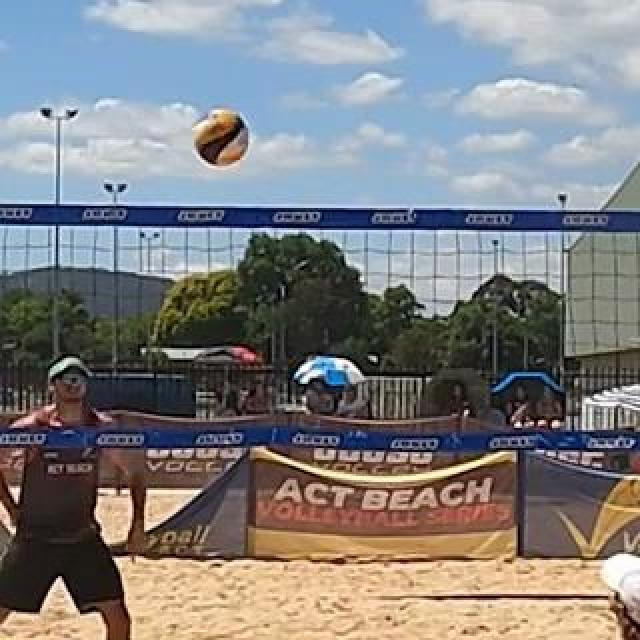volleyball: (196, 111, 250, 167)
